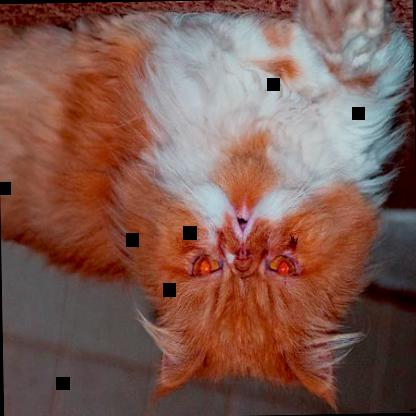cat: (0, 0, 411, 410)
